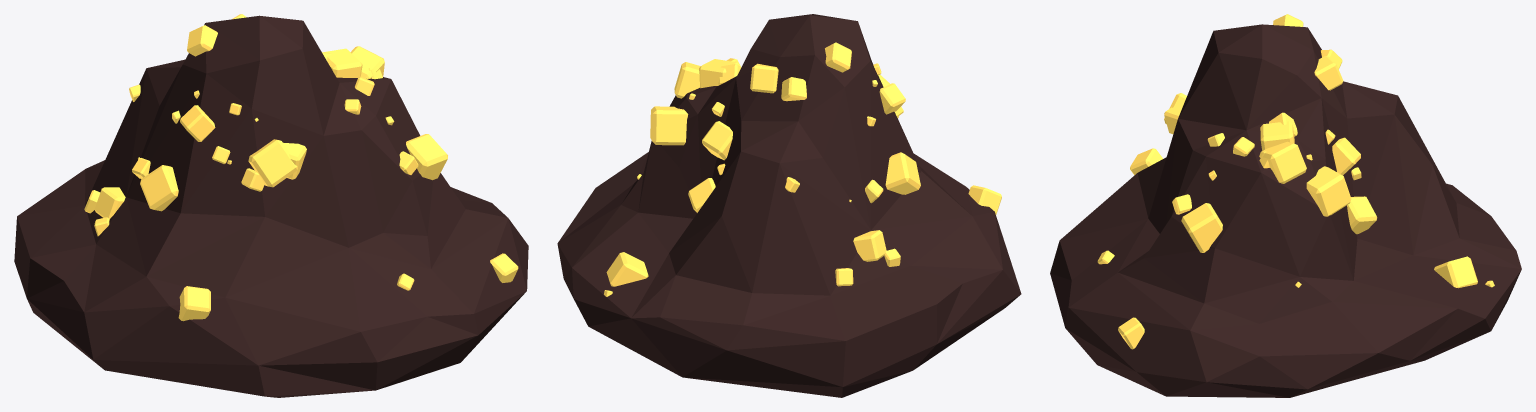
Rendered from golderOre3-1.fbx.
The picture shows the model from 3 angles, left to right: view 1: azimuth 30°, elevation 25°; view 2: azimuth 150°, elevation 25°; view 3: azimuth 270°, elevation 25°; orthographic projection. The views are drawn at different scales.
Parts seen in each view (by area): view 1: GoldenOre2; view 2: GoldenOre2; view 3: GoldenOre2.
Boxes of the visible parts, x1,y1,x2,y2 form: GoldenOre2: [14, 14, 528, 397]; GoldenOre2: [557, 14, 1021, 397]; GoldenOre2: [1050, 14, 1521, 397].
Bounding box in the file's own units: 252 × 174 × 253.
